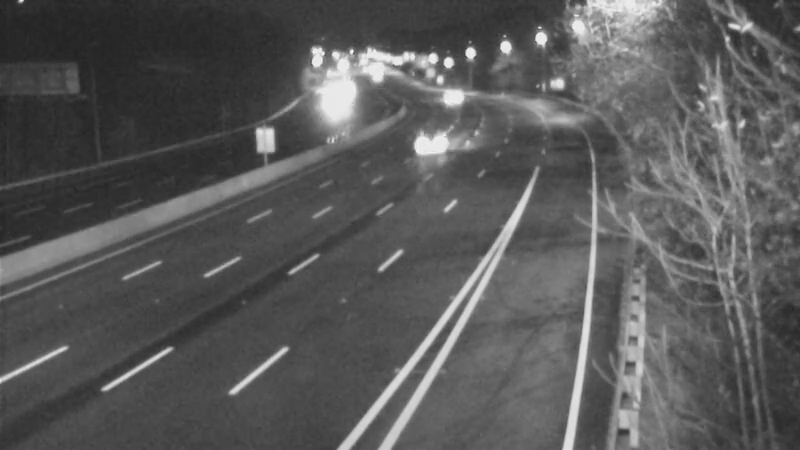vehicle: (422, 68, 472, 118), (407, 117, 457, 167)
